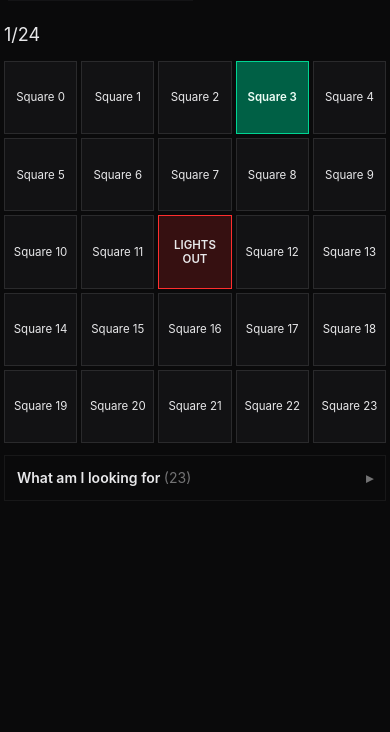
Scenario: what am I looking for › lists the open squares with their prose, and no marked one
This screenshot has width=390, height=732.
Click the button "What am I looking for (23) ▸" at (89, 478), box [5, 456, 385, 500]
(page scrolled)
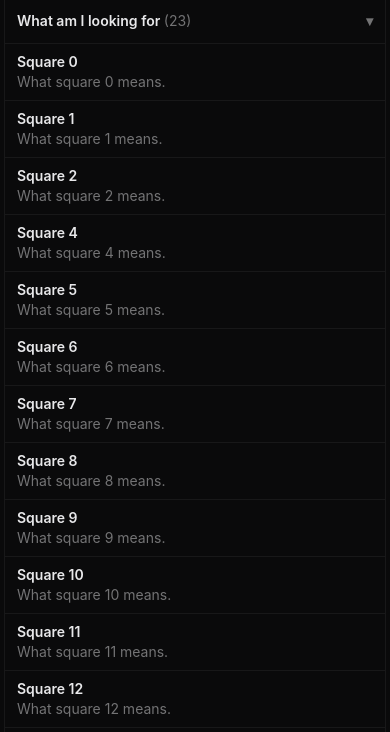
expect the text "What square 5 means." is shown: met, box [17, 301, 165, 318]
